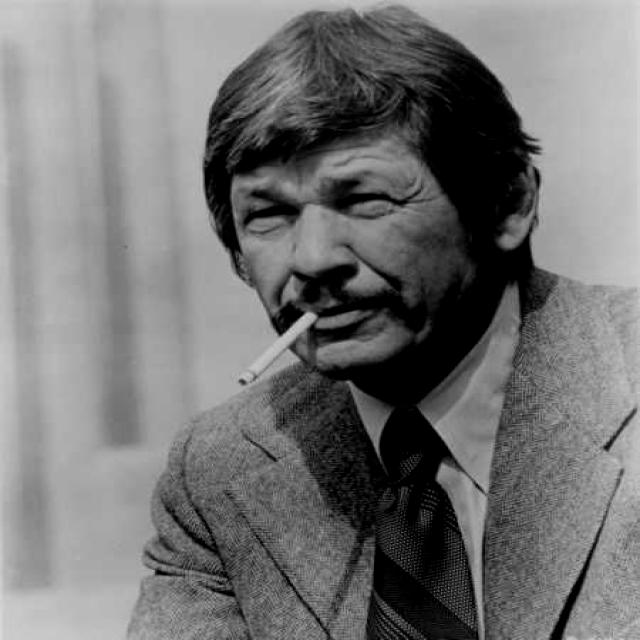Smooking: (218, 301, 313, 404)
